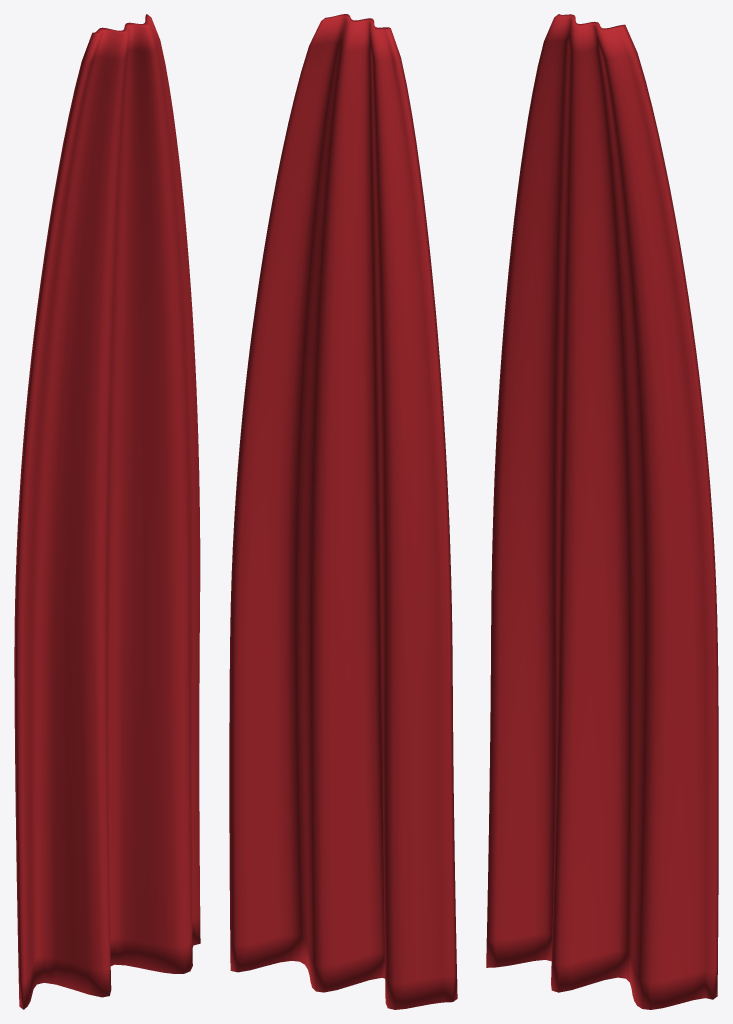
The model's file is TowelHangingLargeRed.glb.
3 renders of one model, left to right at view 1: azimuth 30°, elevation 25°; view 2: azimuth 150°, elevation 25°; view 3: azimuth 330°, elevation 25°, orthographic.
Parts seen in each view (by area): view 1: HangingBathTowel; view 2: HangingBathTowel; view 3: HangingBathTowel.
Part boxes in pixels (x1,y1,x2,y2): HangingBathTowel: [14, 14, 200, 1009]; HangingBathTowel: [229, 14, 457, 1009]; HangingBathTowel: [486, 14, 718, 1009].
Bounding box in the file's own units: 0.14 × 0.64 × 0.0454.
